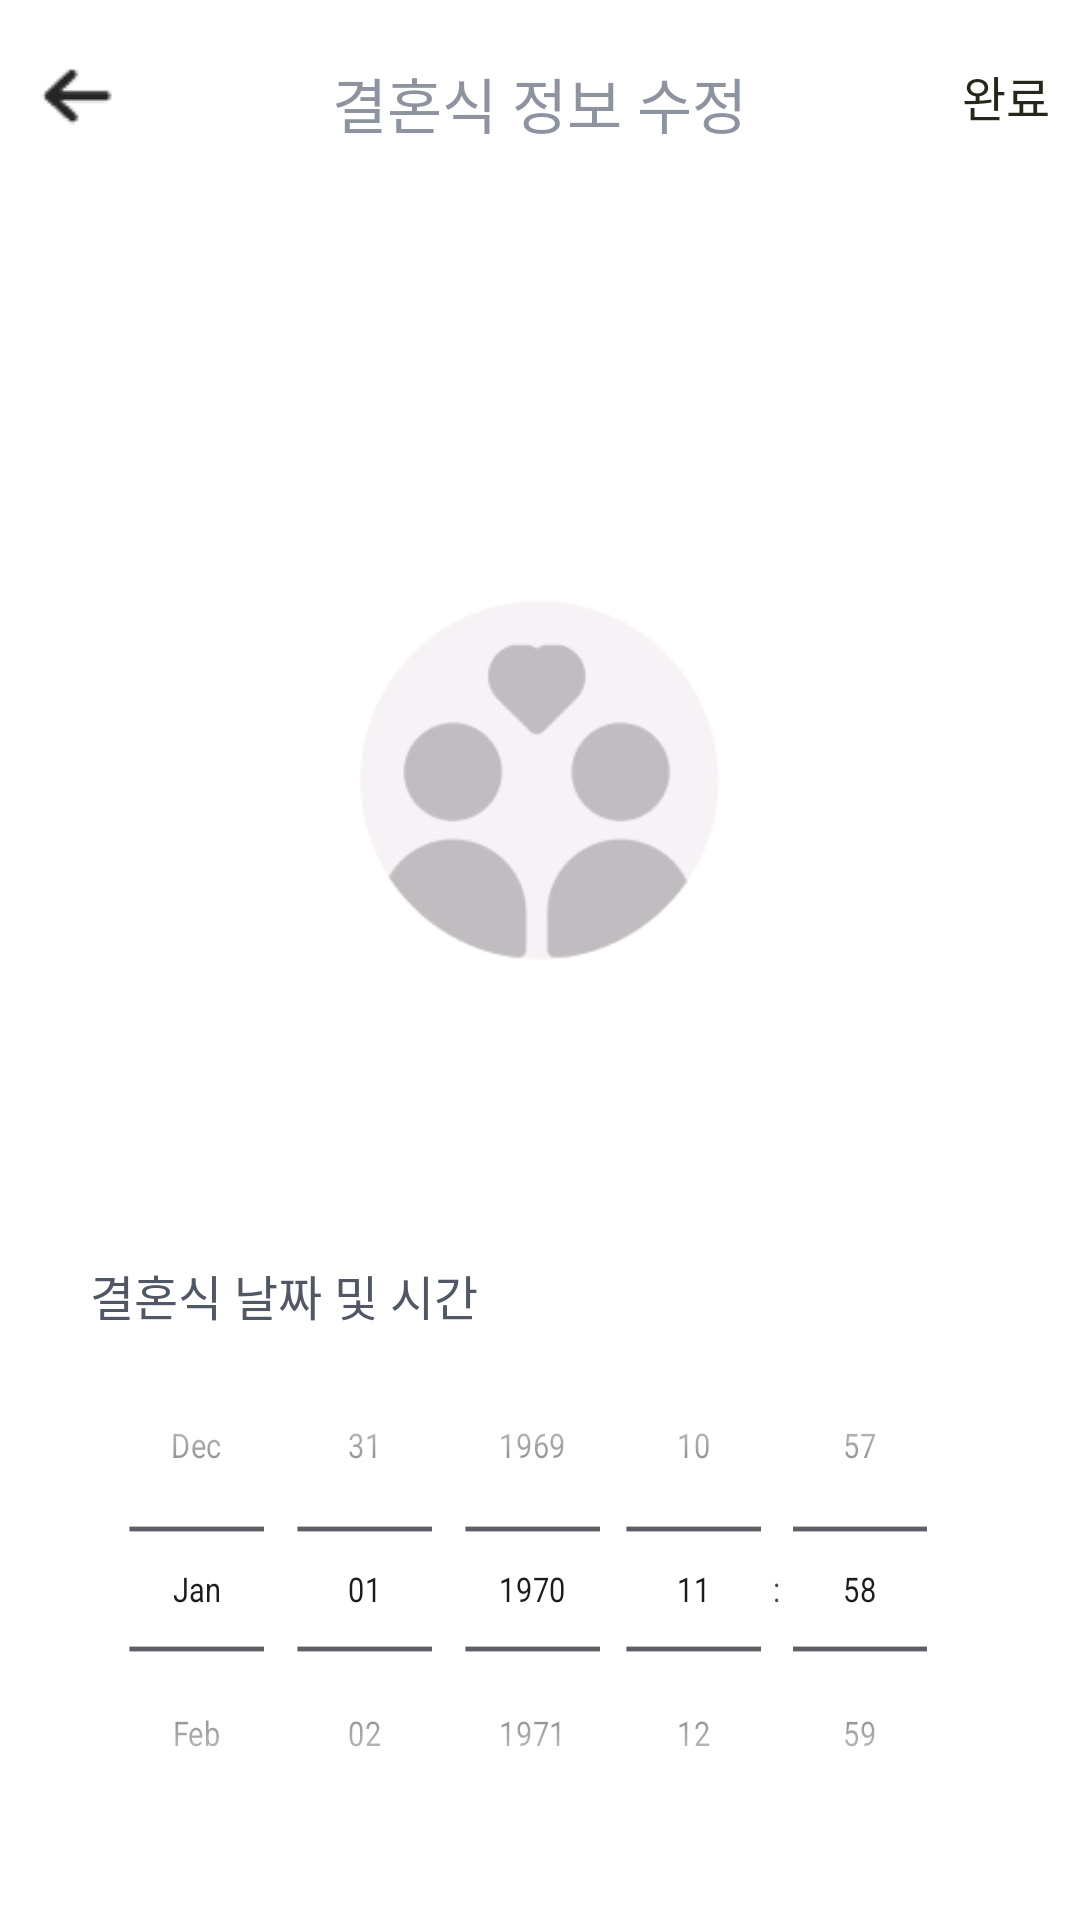

Icons on this 1080w x 1920h Android screen, each with its box as (x1, y1, x2, y2):
back arrow: (43, 69, 112, 124)
couple circle: (360, 602, 718, 959)
